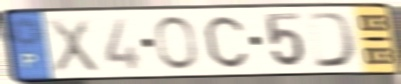4: (102, 16, 144, 72)
5: (260, 12, 308, 70)
C: (202, 14, 251, 70)
D: (305, 10, 360, 70)
O: (152, 14, 201, 72)
X: (46, 16, 101, 75)
